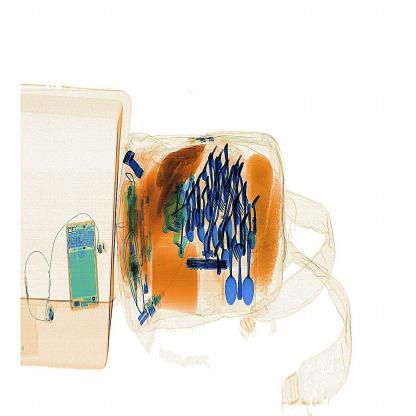scissors: (177, 251, 235, 281)
